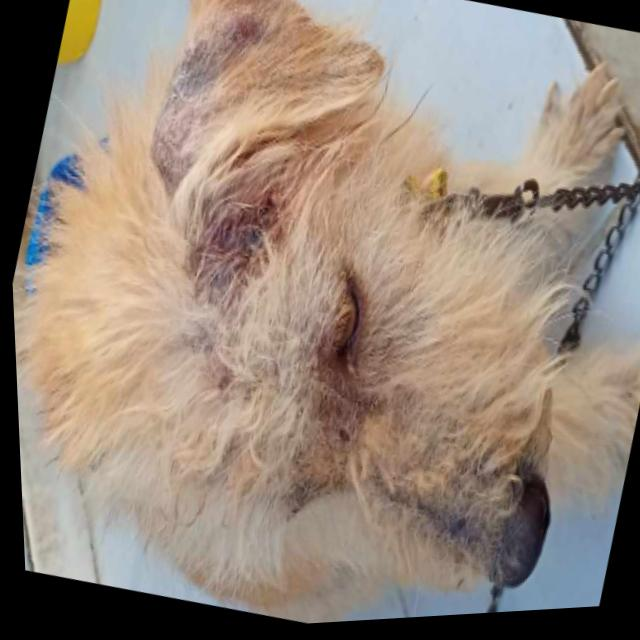demodicosis: (145, 10, 245, 197), (180, 175, 285, 333)
